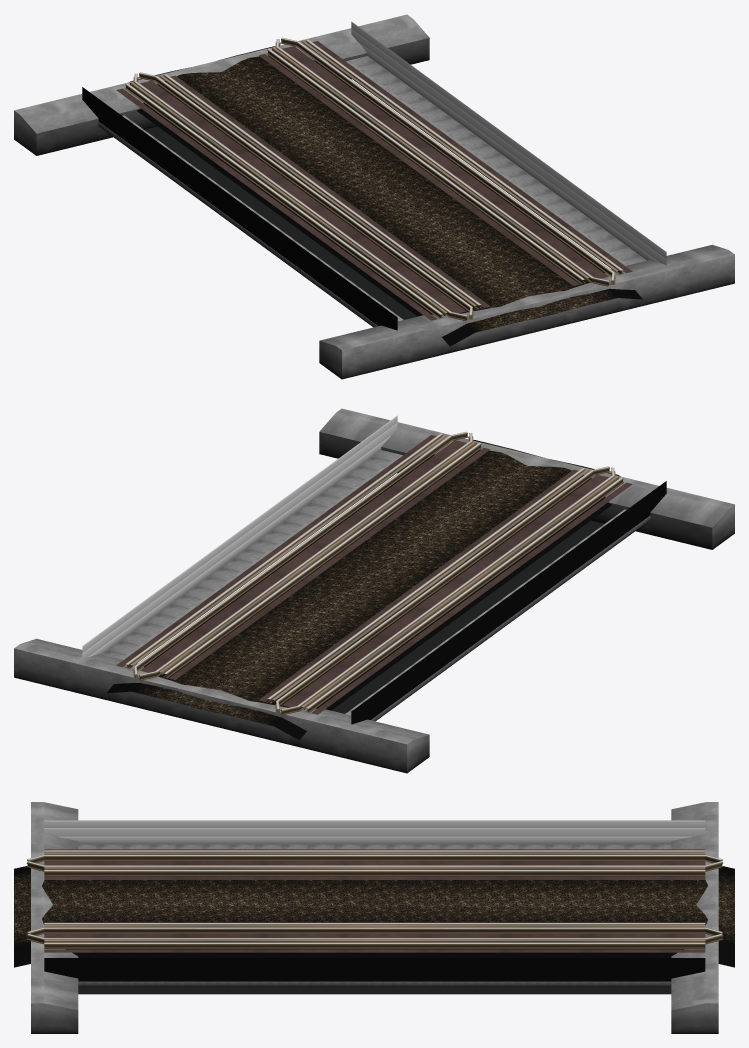
The model's file is MEI_2RAIL_BRIDGE50_NOBANISTER2.glb.
The picture shows the model from 3 angles, top to bottom: view 1: azimuth 30°, elevation 25°; view 2: azimuth 150°, elevation 25°; view 3: azimuth 270°, elevation 25°; orthographic projection. The views are drawn at different scales.
Visible parts, largest first — view 1: Obj, b, f; view 2: Obj, f, b; view 3: Obj, f, b.
Boxes of the visible parts, <box> form: Obj: <box>82,21,666,346</box>; b: <box>319,244,734,379</box>; f: <box>14,14,429,155</box>; Obj: <box>82,415,666,740</box>; f: <box>14,638,429,773</box>; b: <box>319,408,734,549</box>; Obj: <box>14,820,734,994</box>; f: <box>671,802,723,1033</box>; b: <box>26,802,78,1033</box>.
Size of the model in its own units: 36 by 3.79 by 54.53.
Materials: 12 (9 with a texture image).
